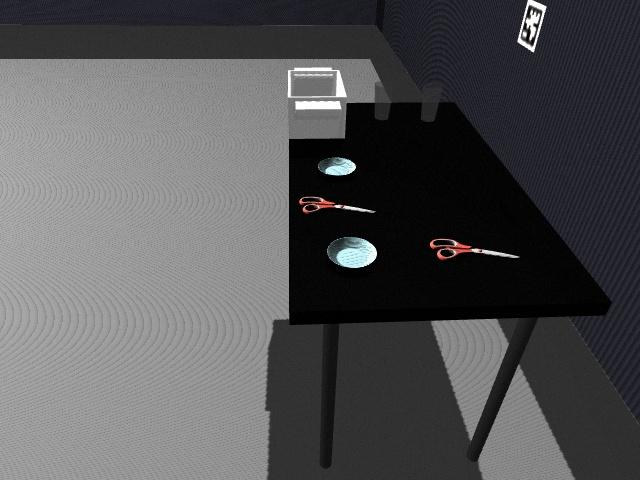cup: (420, 84, 442, 123), (373, 80, 391, 123)
plate: (326, 236, 378, 269), (316, 157, 357, 177)
scissors: (430, 236, 519, 261), (300, 197, 374, 215)
